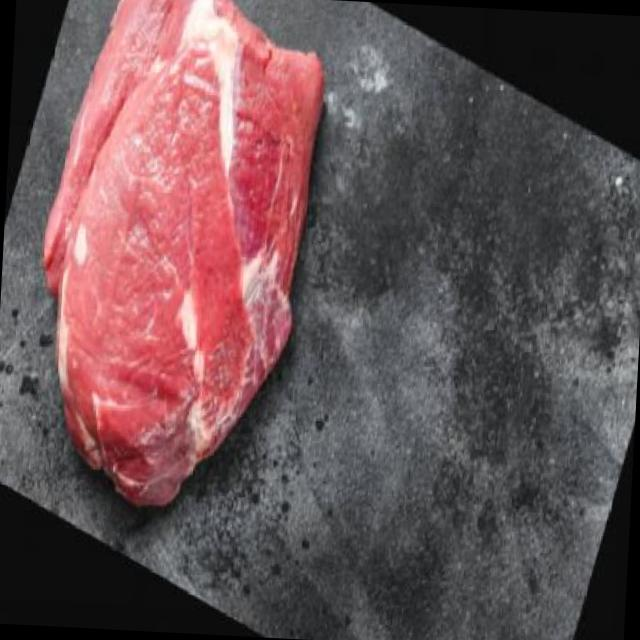beaf: (0, 0, 373, 564)
